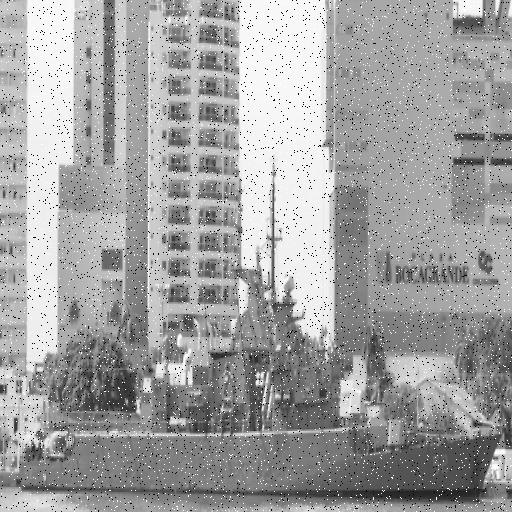Fragata: (14, 163, 506, 500)
